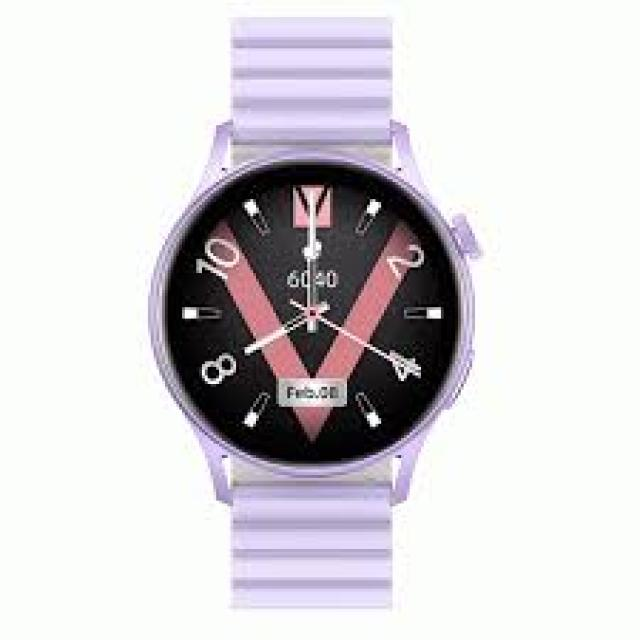objects: (145, 17, 481, 606)
